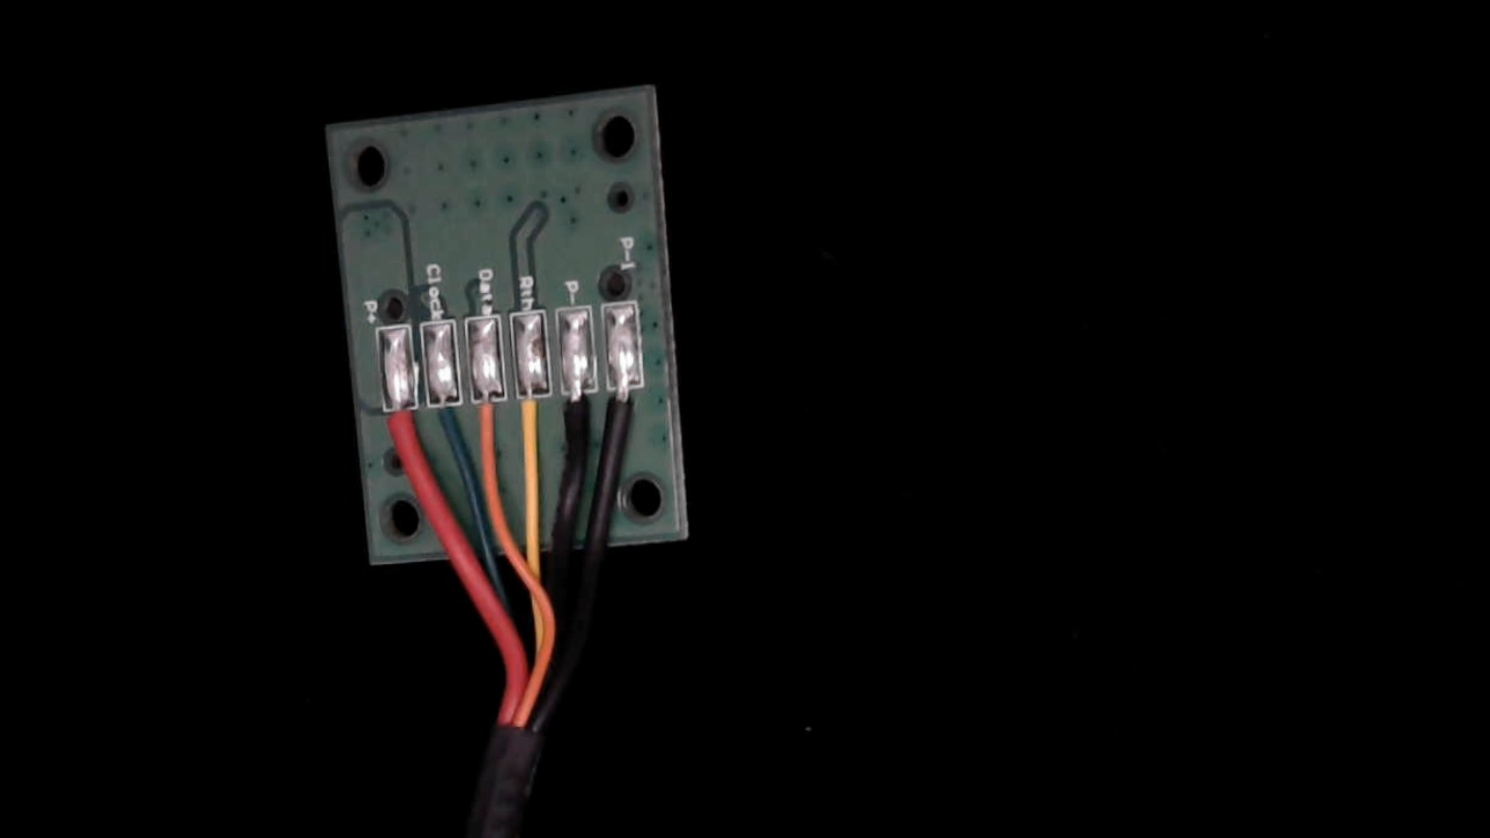Black: (560, 371, 594, 457)
Black1: (605, 370, 644, 453)
Green: (423, 387, 470, 450)
Orange: (468, 382, 507, 454)
Red: (376, 390, 423, 450)
Yellow: (514, 376, 552, 452)
